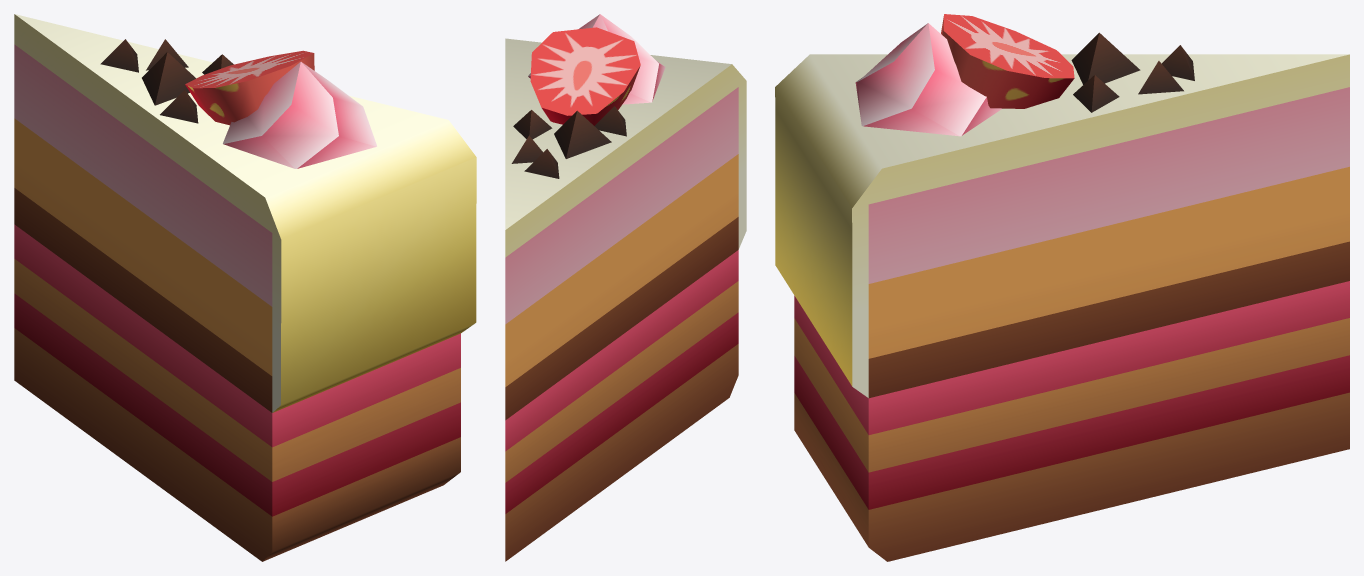
Rendered from m_Cake02_Slice01.fbx.
3 views of the same model, side by side, from view 1: azimuth 30°, elevation 25°; view 2: azimuth 150°, elevation 25°; view 3: azimuth 270°, elevation 25° (orthographic). The views are drawn at different scales.
Parts seen in each view (by area): view 1: m_Cake02_Slice01; view 2: m_Cake02_Slice01; view 3: m_Cake02_Slice01.
Boxes of the visible parts, x1,y1,x2,y2 form: m_Cake02_Slice01: (14,14,476,561); m_Cake02_Slice01: (505,14,746,561); m_Cake02_Slice01: (775,14,1349,561).
Size of the model in its own units: 7.24 by 13.18 by 14.48.
